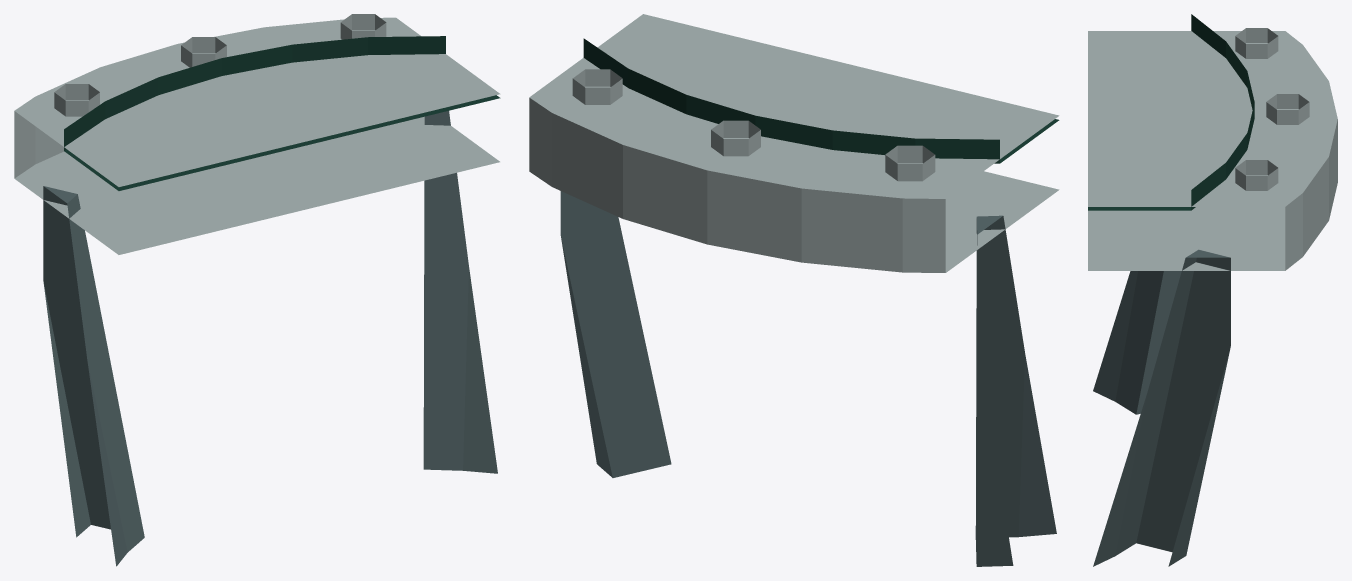
File: cell_28.obj
3 views of the same model, side by side, from view 1: azimuth 30°, elevation 25°; view 2: azimuth 150°, elevation 25°; view 3: azimuth 270°, elevation 25° (orthographic). The views are drawn at different scales.
Size of the model in its own units: 1 by 1 by 0.6.
